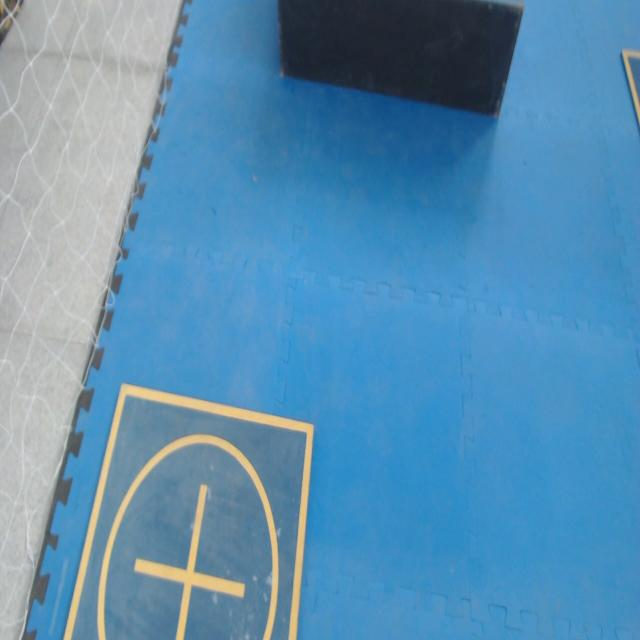base_pouso: (60, 384, 314, 639), (618, 47, 640, 131)
